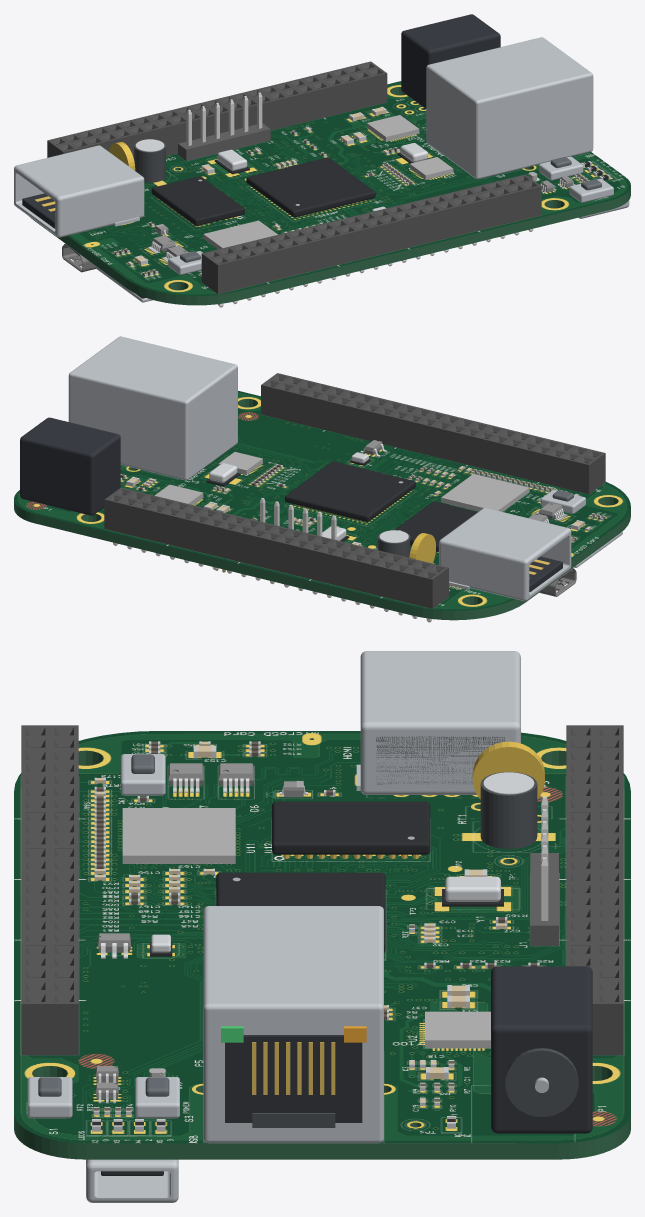
Rendered from without-emmc.glb.
3 views of the same model, one above another, from view 1: azimuth 30°, elevation 25°; view 2: azimuth 150°, elevation 25°; view 3: azimuth 270°, elevation 25° (orthographic). The views are drawn at different scales.
Parts seen in each view (by area): view 1: Box0, P5, P8, P9, P3, U5, P1, J1, U12, C34, U11, U2 (+8 smaller); view 2: Box0, P5, P9, P8, P3, P1, U5, U11, U12, J1, C34, S2 (+5 smaller); view 3: Box0, P5, P3, P8, P1, P9, U12, U11, U5, C34, P4, J1 (+8 smaller).
Boxes of the visible parts, left/top/right/bottom form: Box0: left=29, top=81, right=630, bottom=305; P5: left=426, top=37, right=593, bottom=179; P8: left=201, top=174, right=541, bottom=307; P9: left=47, top=61, right=387, bottom=158; P3: left=14, top=145, right=144, bottom=237; U5: left=246, top=157, right=375, bottom=217; P1: left=401, top=14, right=500, bottom=108; J1: left=178, top=92, right=270, bottom=161; U12: left=151, top=176, right=244, bottom=226; C34: left=134, top=139, right=165, bottom=182; U11: left=203, top=220, right=277, bottom=249; U2: left=367, top=115, right=419, bottom=141; Box0: left=14, top=391, right=630, bottom=620; P5: left=68, top=336, right=237, bottom=480; P9: left=104, top=487, right=448, bottom=622; P8: left=261, top=373, right=605, bottom=494; P3: left=439, top=508, right=571, bottom=601; P1: left=20, top=417, right=120, bottom=515; U5: left=285, top=461, right=415, bottom=522; U11: left=441, top=474, right=529, bottom=511; U12: left=395, top=501, right=477, bottom=552; J1: left=260, top=498, right=336, bottom=539; C34: left=378, top=530, right=410, bottom=557; S2: left=540, top=489, right=585, bottom=513; Box0: left=14, top=731, right=630, bottom=1159; P5: left=203, top=906, right=383, bottom=1143; P3: left=356, top=651, right=520, bottom=794; P8: left=21, top=725, right=78, bottom=1055; P1: left=491, top=966, right=592, bottom=1133; P9: left=566, top=725, right=623, bottom=1055; U12: left=272, top=801, right=430, bottom=858; U11: left=122, top=808, right=235, bottom=863; U5: left=216, top=872, right=385, bottom=952; C34: left=480, top=772, right=537, bottom=848; P4: left=86, top=1159, right=178, bottom=1202; J1: left=530, top=796, right=558, bottom=945.
Size of the model in its own units: 89.27 by 19.6 by 54.64.
33 materials, 2 textured.
